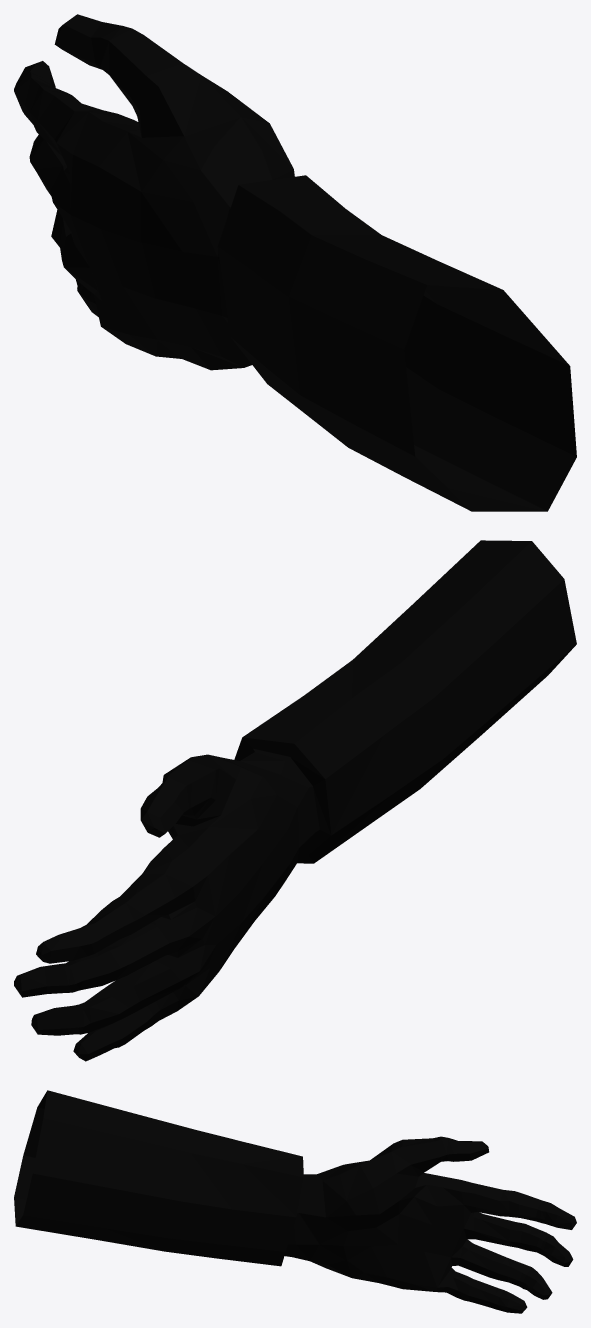
Rendered from BucketHandL.obj.
The picture shows the model from 3 angles, top to bottom: view 1: azimuth 30°, elevation 25°; view 2: azimuth 150°, elevation 25°; view 3: azimuth 270°, elevation 25°; orthographic projection. The views are drawn at different scales.
Parts seen in each view (by area): view 1: Hand2 h1_polySurface1; view 2: Hand2 h1_polySurface1; view 3: Hand2 h1_polySurface1.
Boxes of the visible parts, x1=… form: Hand2 h1_polySurface1: x1=14, y1=14, x2=576, y2=511; Hand2 h1_polySurface1: x1=14, y1=540, x2=576, y2=1061; Hand2 h1_polySurface1: x1=14, y1=1090, x2=576, y2=1313.
Size of the model in its own units: 0.3991 by 0.6739 by 1.8.
Materials: 1 (1 with a texture image).
